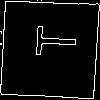T: (24, 24, 77, 58)
